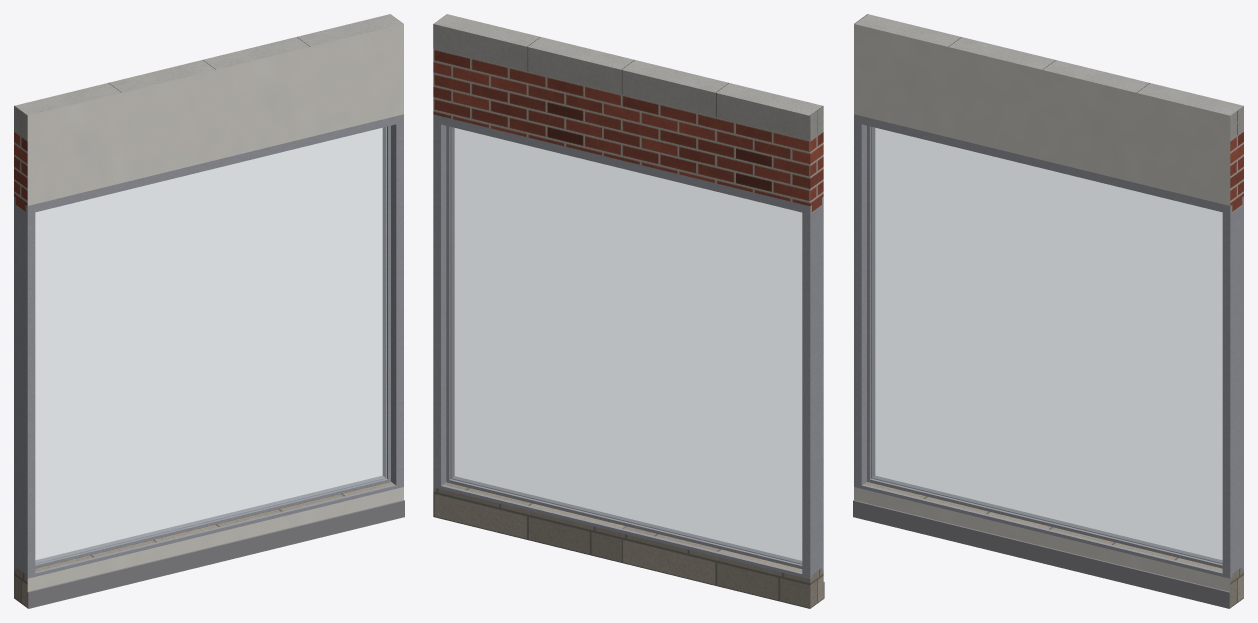
File: shopfront_glass_240.glb
The picture shows the model from 3 angles, left to right: view 1: azimuth 30°, elevation 25°; view 2: azimuth 150°, elevation 25°; view 3: azimuth 330°, elevation 25°; orthographic projection.
Visible parts, largest first — view 1: shopfront_glass_240-col; view 2: shopfront_glass_240-col; view 3: shopfront_glass_240-col.
Boxes of the visible parts, x1,y1,x2,y2 form: shopfront_glass_240-col: [14, 14, 404, 608]; shopfront_glass_240-col: [433, 14, 824, 608]; shopfront_glass_240-col: [853, 14, 1243, 608].
Bounding box in the file's own units: 2.4 × 3 × 0.16.
Materials: 7 (5 with a texture image).
